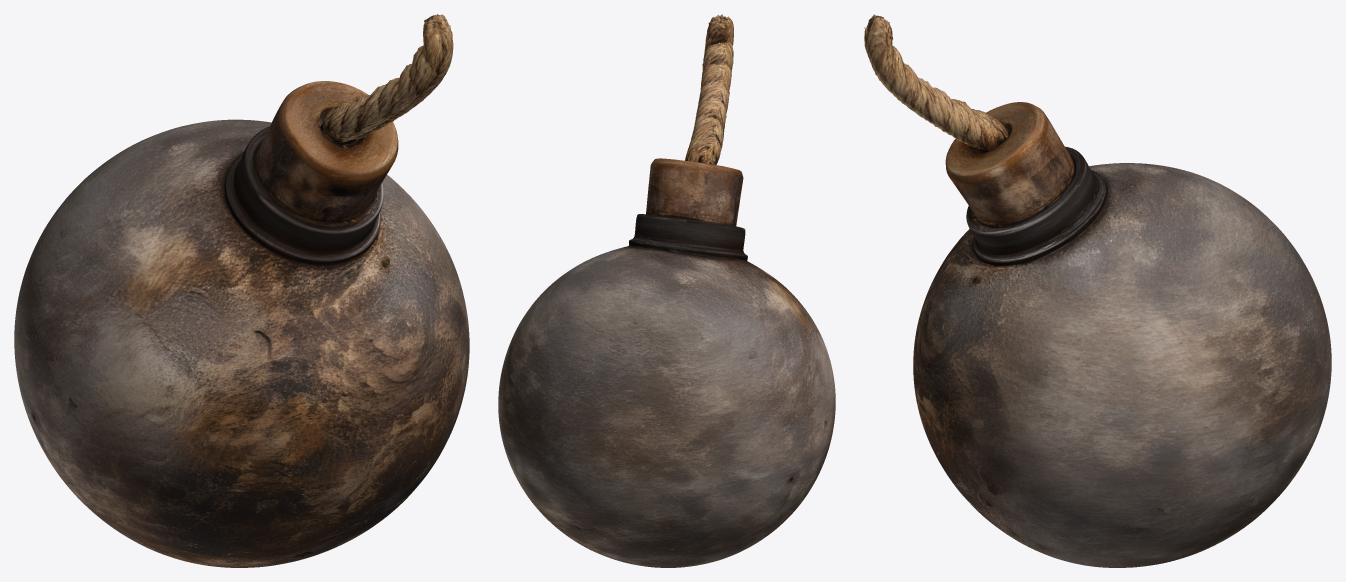
File: Bomba.glb
3 views of the same model, side by side, from view 1: azimuth 30°, elevation 25°; view 2: azimuth 150°, elevation 25°; view 3: azimuth 270°, elevation 25° (orthographic). The views are drawn at different scales.
Parts seen in each view (by area): view 1: material; view 2: material; view 3: material.
Part boxes in pixels (x1,y1,x2,y2): material: (14,14,469,567); material: (498,14,835,567); material: (864,14,1331,567).
Bounding box in the file's own units: 0.6393 × 0.9579 × 0.7276.
1 material, 1 textured.
